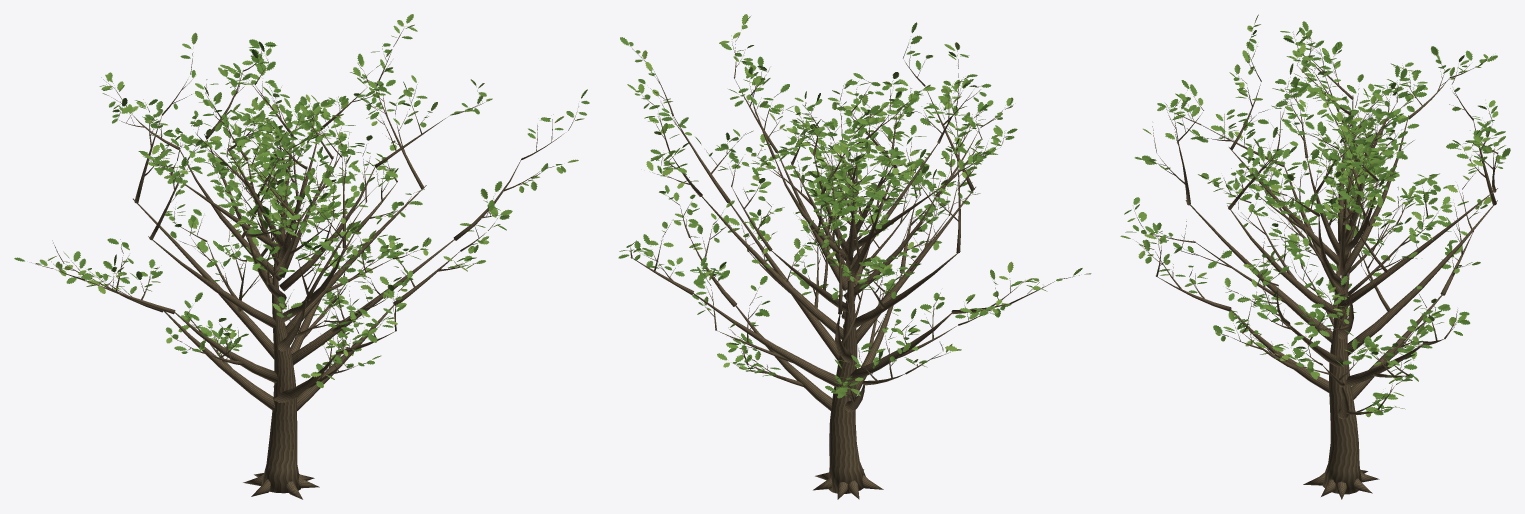
Rendered from Sessile_Oak_Mature_01_Unpruned_LOD2.fbx.
3 renders of one model, left to right at view 1: azimuth 30°, elevation 25°; view 2: azimuth 150°, elevation 25°; view 3: azimuth 270°, elevation 25°, orthographic.
Visible parts, largest first — view 1: Sessile_Oak_Mature_01_Unpruned_LOD2; view 2: Sessile_Oak_Mature_01_Unpruned_LOD2; view 3: Sessile_Oak_Mature_01_Unpruned_LOD2.
Boxes of the visible parts, bbox=[...] form: Sessile_Oak_Mature_01_Unpruned_LOD2: bbox=[14, 14, 589, 499]; Sessile_Oak_Mature_01_Unpruned_LOD2: bbox=[618, 14, 1091, 499]; Sessile_Oak_Mature_01_Unpruned_LOD2: bbox=[1120, 14, 1510, 499].
Bounding box in the file's own units: 2514 × 1999 × 1613.
Materials: 5 (1 with a texture image).
